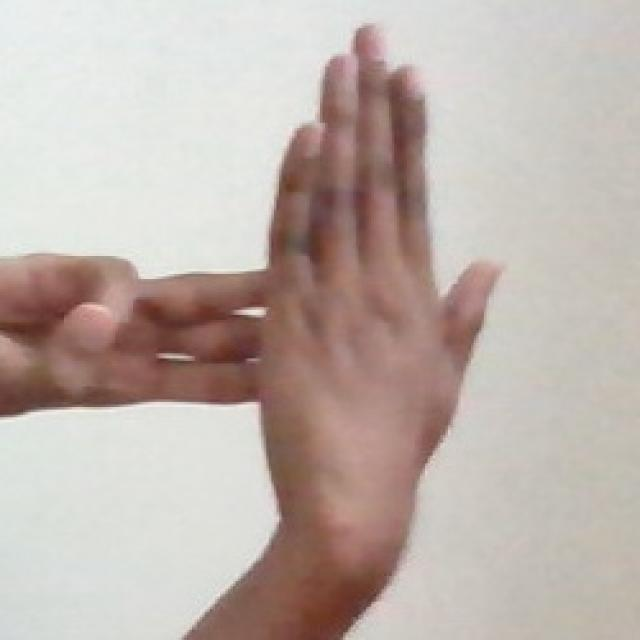Alphabet-M: (0, 18, 507, 619)
